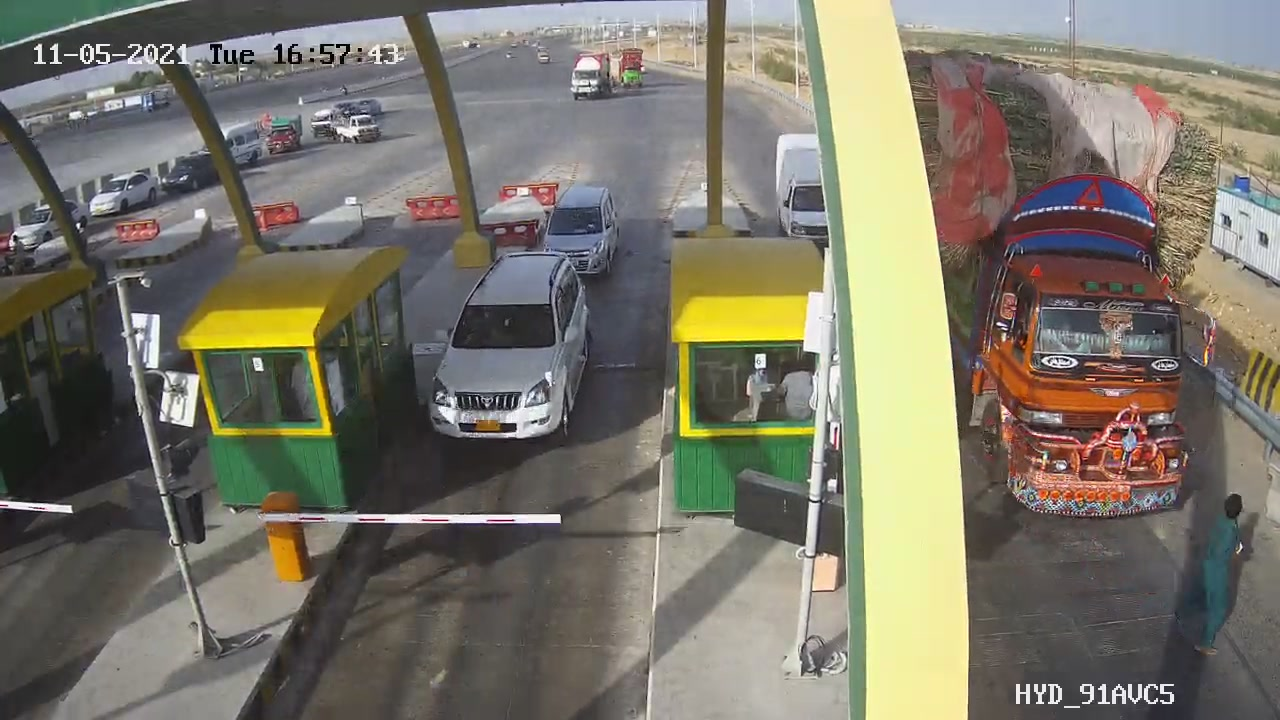F1: (407, 236, 615, 462), (520, 177, 636, 285)
